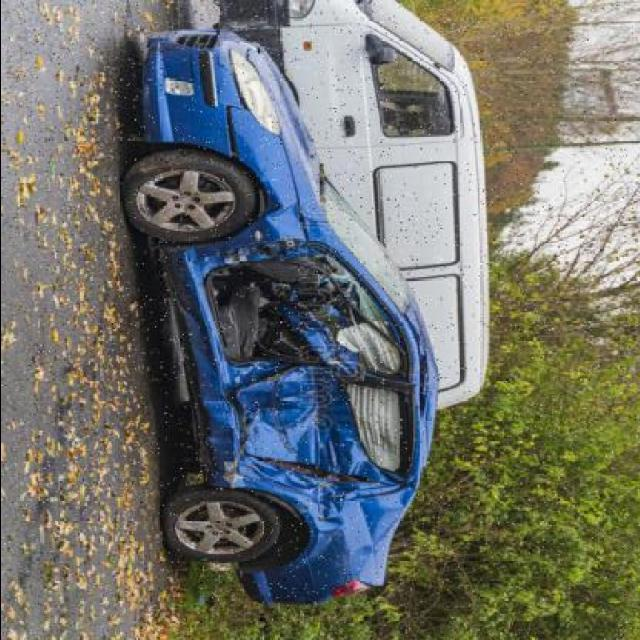RunningBoard-Dent: (174, 251, 217, 410), (186, 382, 243, 498)
doorouter-dent: (228, 365, 424, 498)
fender-dent: (177, 140, 309, 243)
